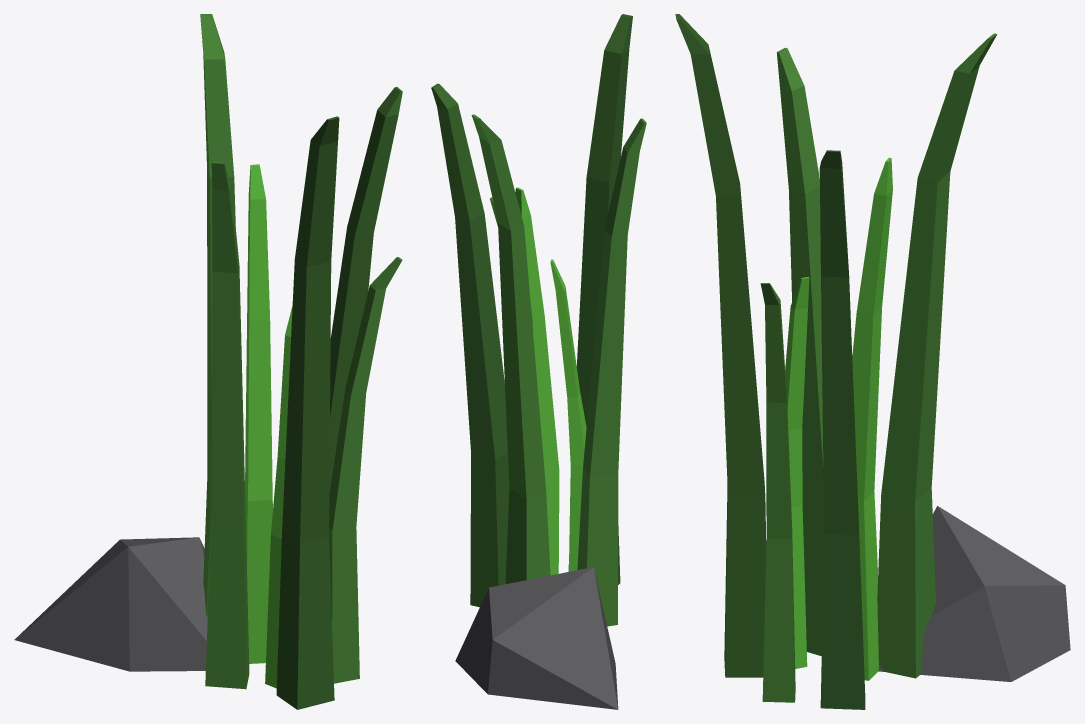
The model's file is grass_1.fbx.
The picture shows the model from 3 angles, left to right: view 1: azimuth 30°, elevation 25°; view 2: azimuth 150°, elevation 25°; view 3: azimuth 270°, elevation 25°; orthographic projection. The views are drawn at different scales.
Parts seen in each view (by area): view 1: grass_1; view 2: grass_1; view 3: grass_1.
Boxes of the visible parts, box(x1,y1,x2,y2) form: grass_1: box(14, 14, 402, 709); grass_1: box(431, 14, 646, 709); grass_1: box(675, 14, 1070, 709).
Bounding box in the file's own units: 121 × 239 × 131.
